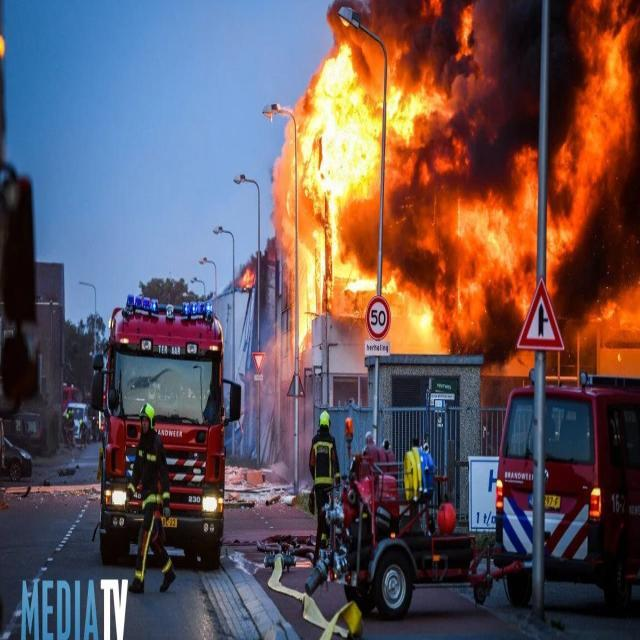Fire: (285, 0, 640, 361), (242, 268, 256, 290)
Smoke: (238, 0, 639, 485)
